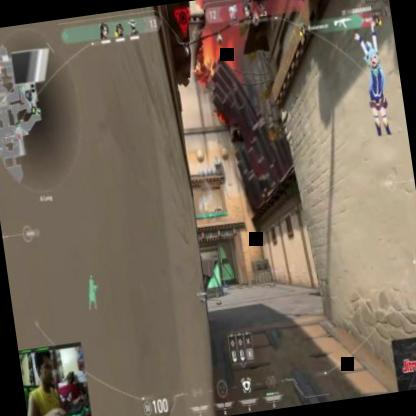enemy: (202, 204, 210, 228)
enemy_head: (204, 206, 208, 212)
